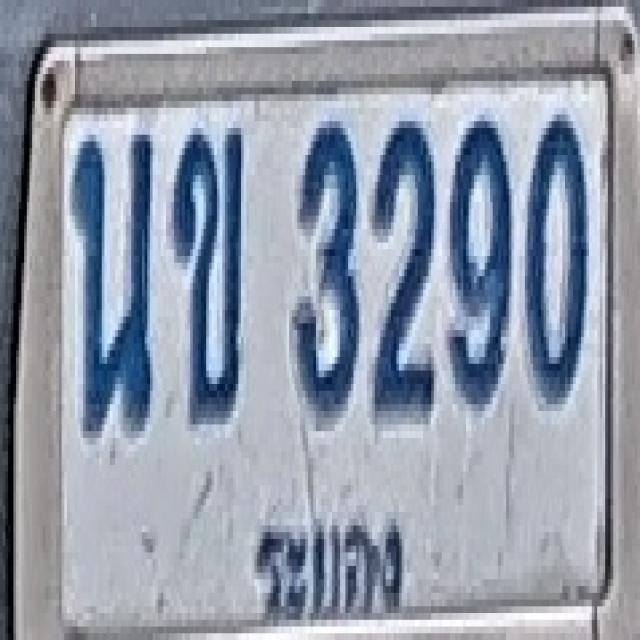0: (525, 111, 586, 401)
2: (371, 115, 435, 418)
3: (292, 118, 359, 421)
9: (447, 115, 512, 404)
A02: (171, 125, 244, 421)
A25: (71, 124, 154, 434)
RYG: (250, 510, 412, 624)
